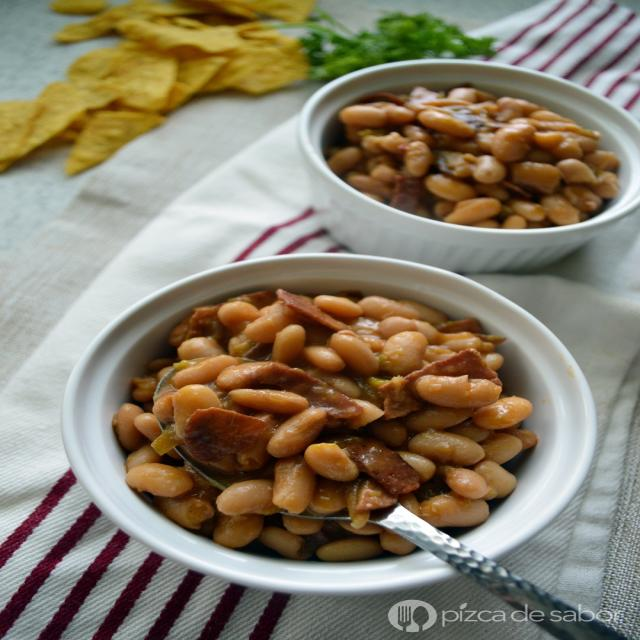garbanzos: (120, 281, 526, 544)
